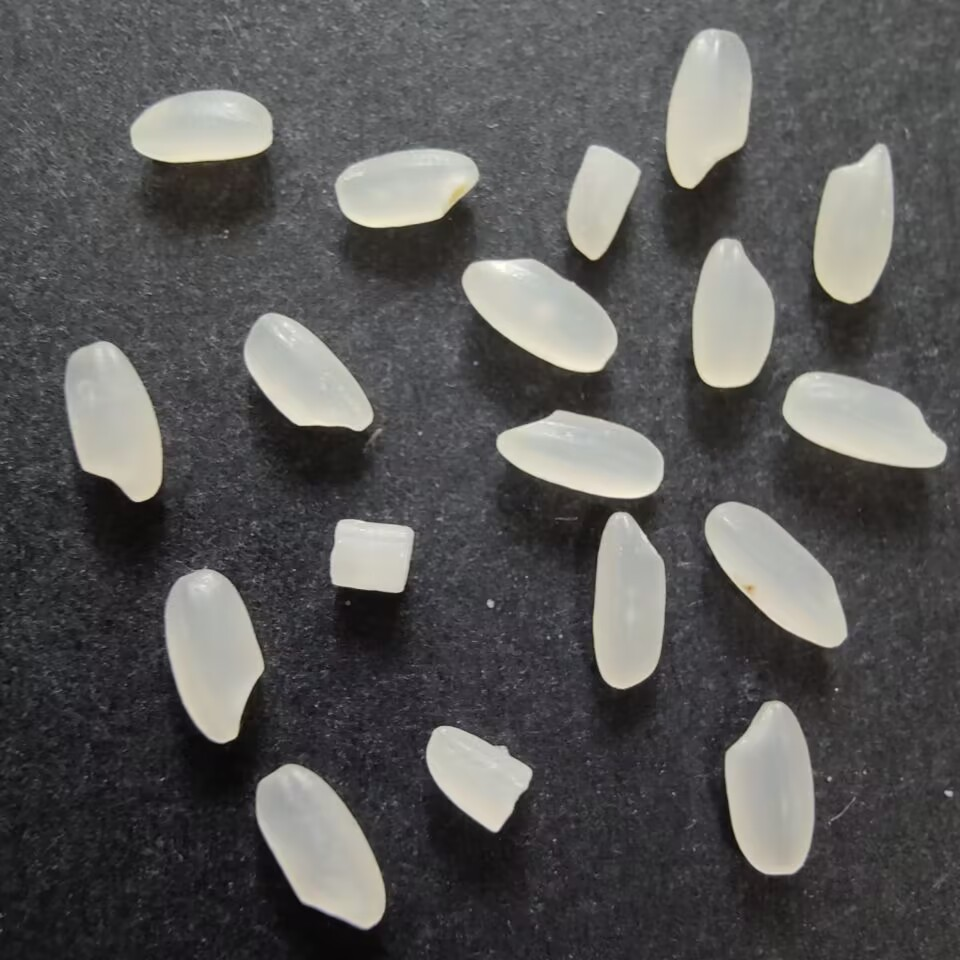broken: (422, 723, 537, 840), (563, 143, 646, 263), (323, 516, 416, 597)
rice: (252, 760, 388, 933), (701, 499, 848, 652), (163, 564, 267, 748), (460, 258, 620, 375), (720, 695, 820, 878), (241, 312, 378, 438), (779, 372, 950, 472), (61, 339, 165, 502), (493, 408, 665, 500), (665, 26, 755, 193), (591, 508, 671, 693), (813, 139, 895, 307), (691, 237, 776, 391), (333, 145, 482, 228), (128, 87, 278, 165)
